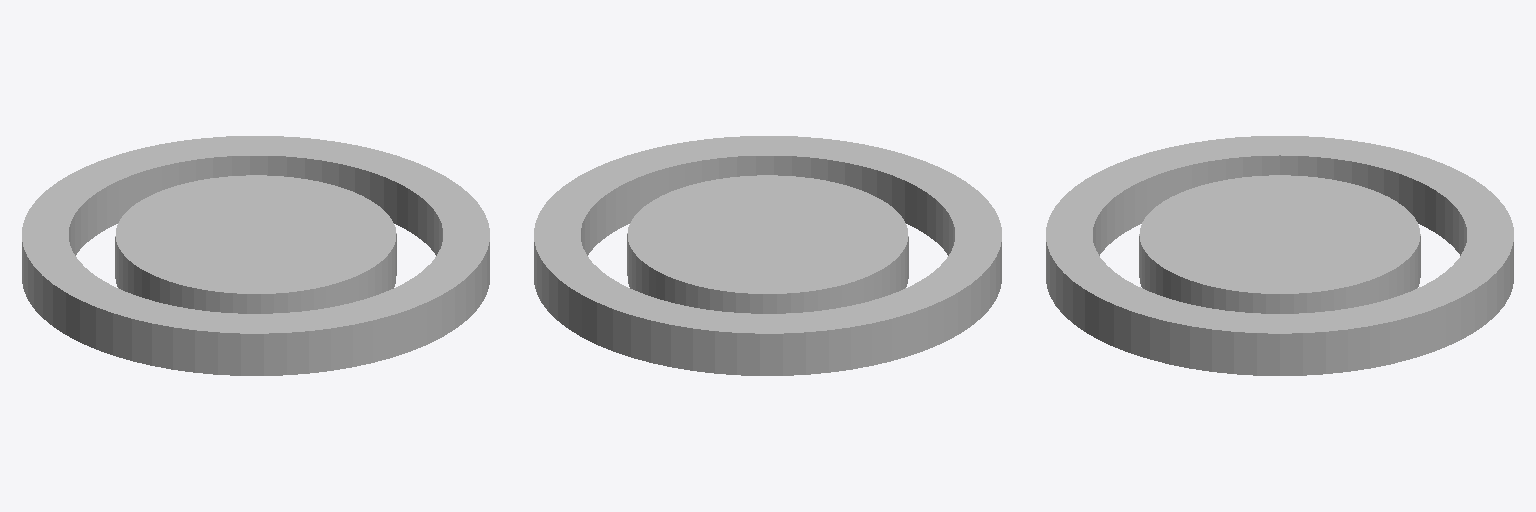
Rendered from teleportNoArrow.obj.
3 renders of one model, left to right at view 1: azimuth 30°, elevation 25°; view 2: azimuth 150°, elevation 25°; view 3: azimuth 270°, elevation 25°, orthographic.
Parts seen in each view (by area): view 1: Outer_Ring_Cylinder, Inner_cylinder_Cylinder.002; view 2: Outer_Ring_Cylinder, Inner_cylinder_Cylinder.002; view 3: Outer_Ring_Cylinder, Inner_cylinder_Cylinder.002.
Boxes of the visible parts, <box> form: Outer_Ring_Cylinder: <box>22,136,489,375</box>; Inner_cylinder_Cylinder.002: <box>115,175,396,313</box>; Outer_Ring_Cylinder: <box>534,136,1001,375</box>; Inner_cylinder_Cylinder.002: <box>627,175,908,313</box>; Outer_Ring_Cylinder: <box>1046,136,1513,375</box>; Inner_cylinder_Cylinder.002: <box>1139,175,1420,313</box>.
Bounding box in the file's own units: 2 × 0.2006 × 2.